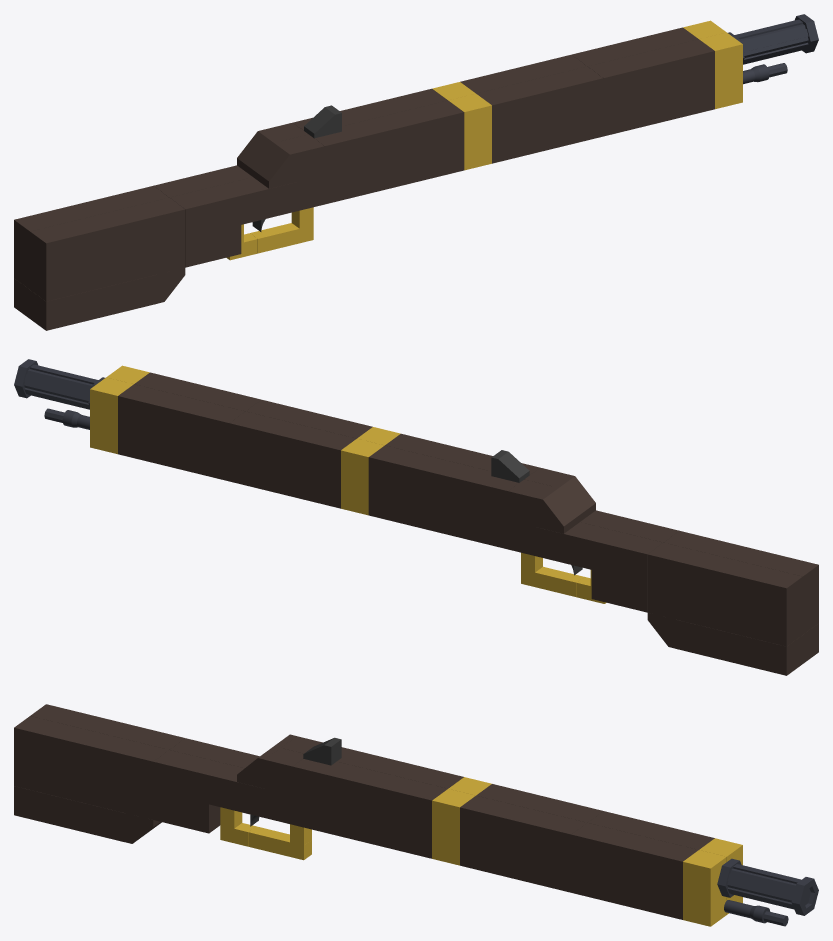
File: Musket.fbx
3 views of the same model, one above another, from view 1: azimuth 30°, elevation 25°; view 2: azimuth 150°, elevation 25°; view 3: azimuth 330°, elevation 25° (orthographic).
Parts seen in each view (by area): view 1: block (×53), block_corner_large (×4), clipBarrel_large, block_quarter; view 2: block (×53), block_corner_large (×4), clipBarrel_large, block_quarter; view 3: block (×73), clipBarrel_large, block_corner_large (×3), block_quarter (×3), attachment_barrelEnd.
Boxes of the visible parts, bbox=[...] form: block (×53): bbox=[14, 32, 742, 330]; block_corner_large (×4): bbox=[157, 105, 341, 303]; clipBarrel_large: bbox=[728, 14, 818, 64]; block_quarter: bbox=[250, 226, 285, 253]; block (×53): bbox=[90, 377, 818, 675]; block_corner_large (×4): bbox=[491, 450, 675, 648]; clipBarrel_large: bbox=[14, 359, 104, 409]; block_quarter: bbox=[549, 570, 584, 597]; block (×73): bbox=[14, 704, 742, 926]; clipBarrel_large: bbox=[717, 858, 818, 915]; block_corner_large (×3): bbox=[125, 737, 341, 843]; block_quarter (×3): bbox=[220, 823, 311, 860]; attachment_barrelEnd: bbox=[724, 900, 770, 923].
Bounding box in the file's own units: 6.58 × 1.09 × 0.471.
